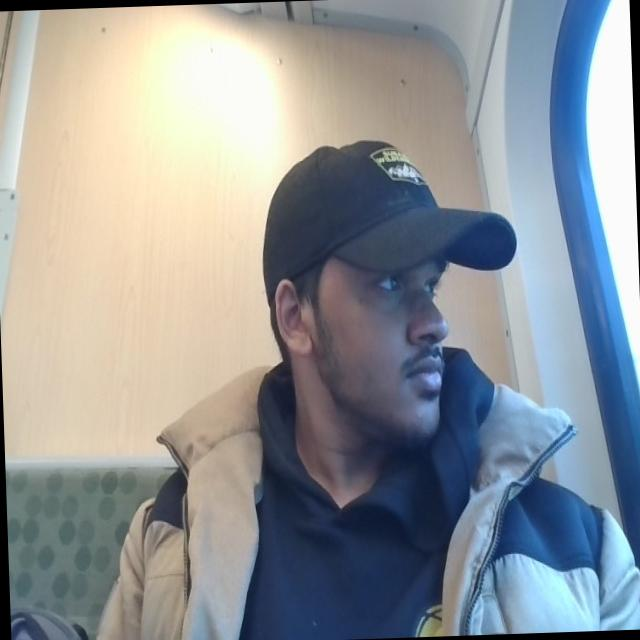hat: (249, 129, 523, 298)
